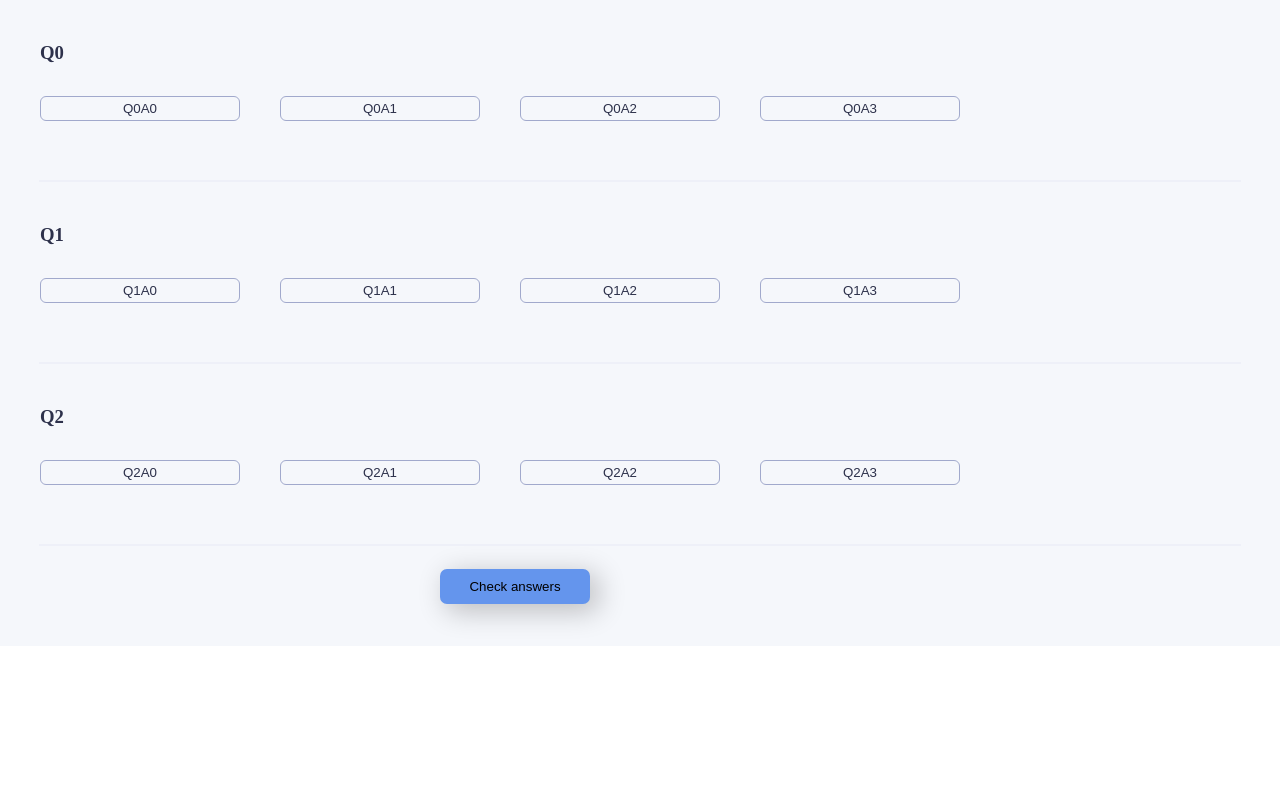
it: highlights the answers correctly and count how many of them are correctly selected by the user
Note: click on answers
Click the button "Q0A2": (620, 108) [520, 96, 720, 121]
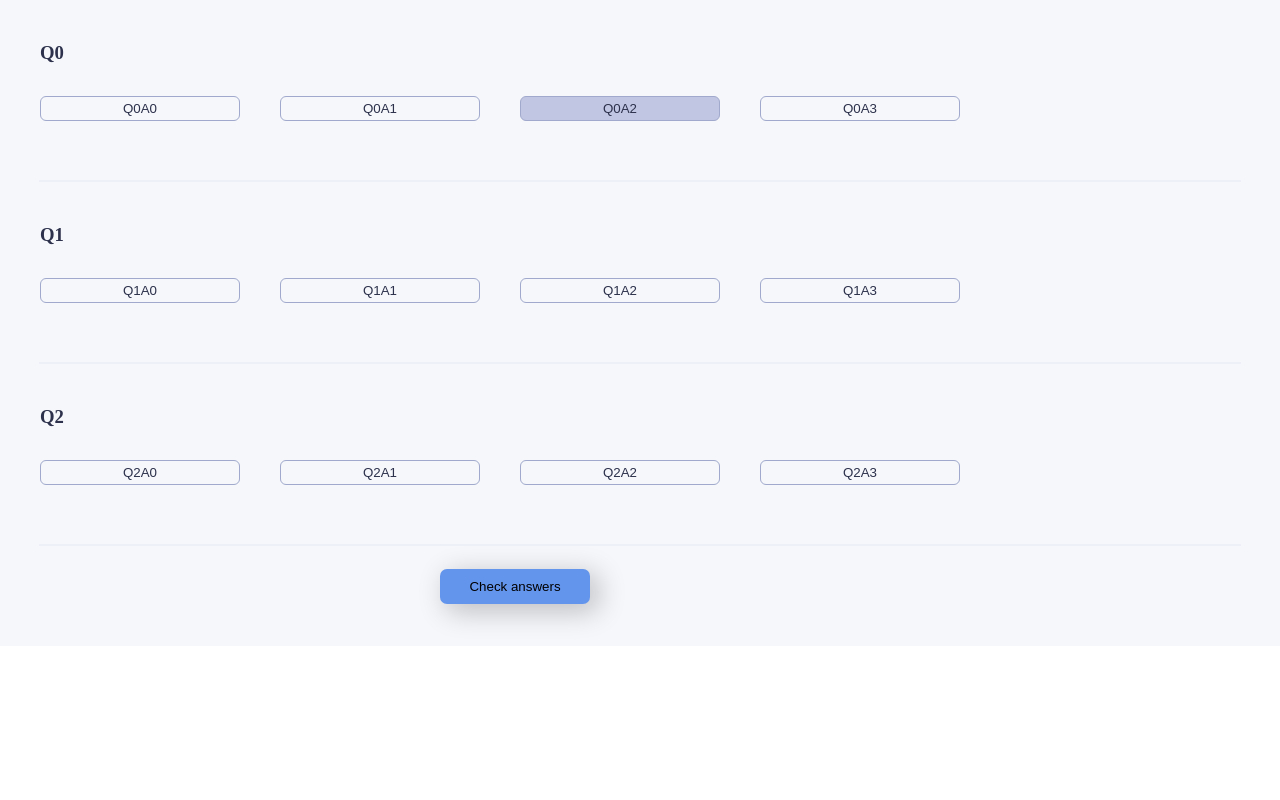
Click the button "Q1A3": (860, 290) [760, 278, 960, 303]
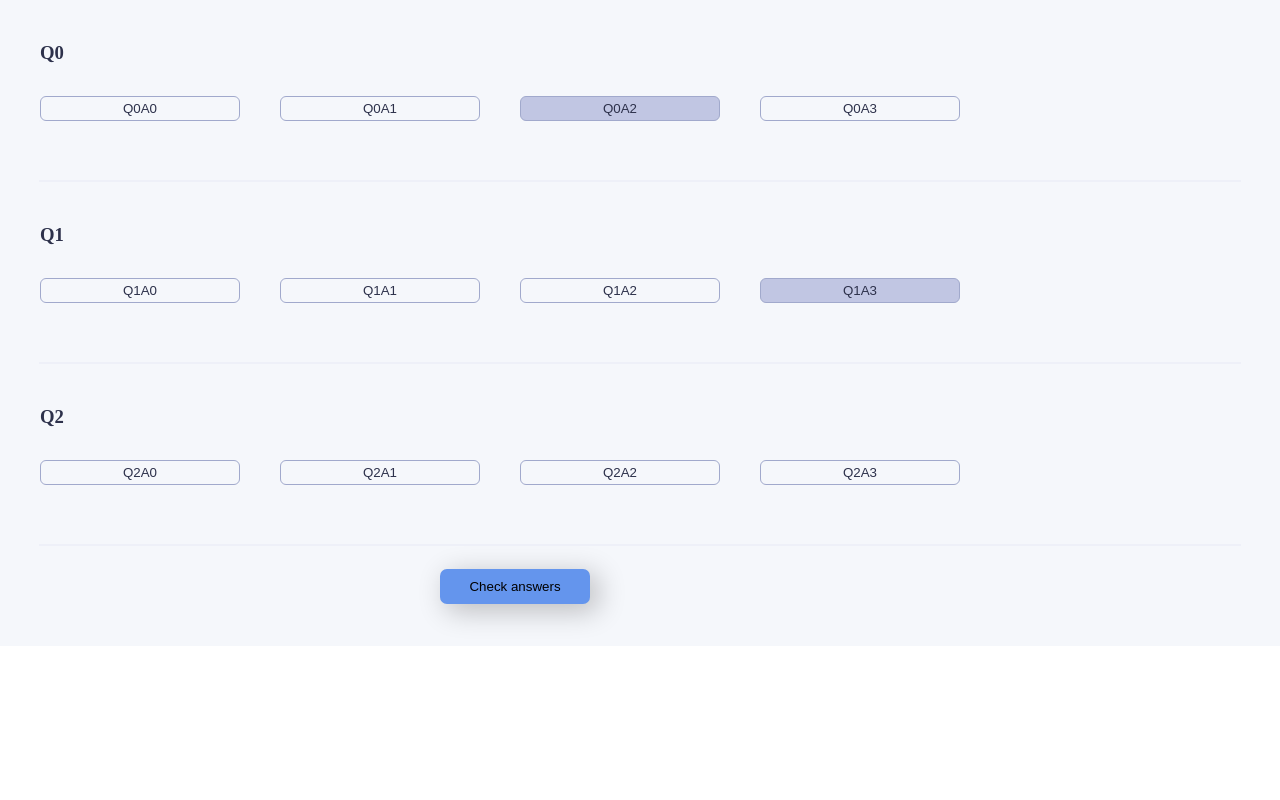
Click the button "Q2A2": (620, 472) [520, 460, 720, 485]
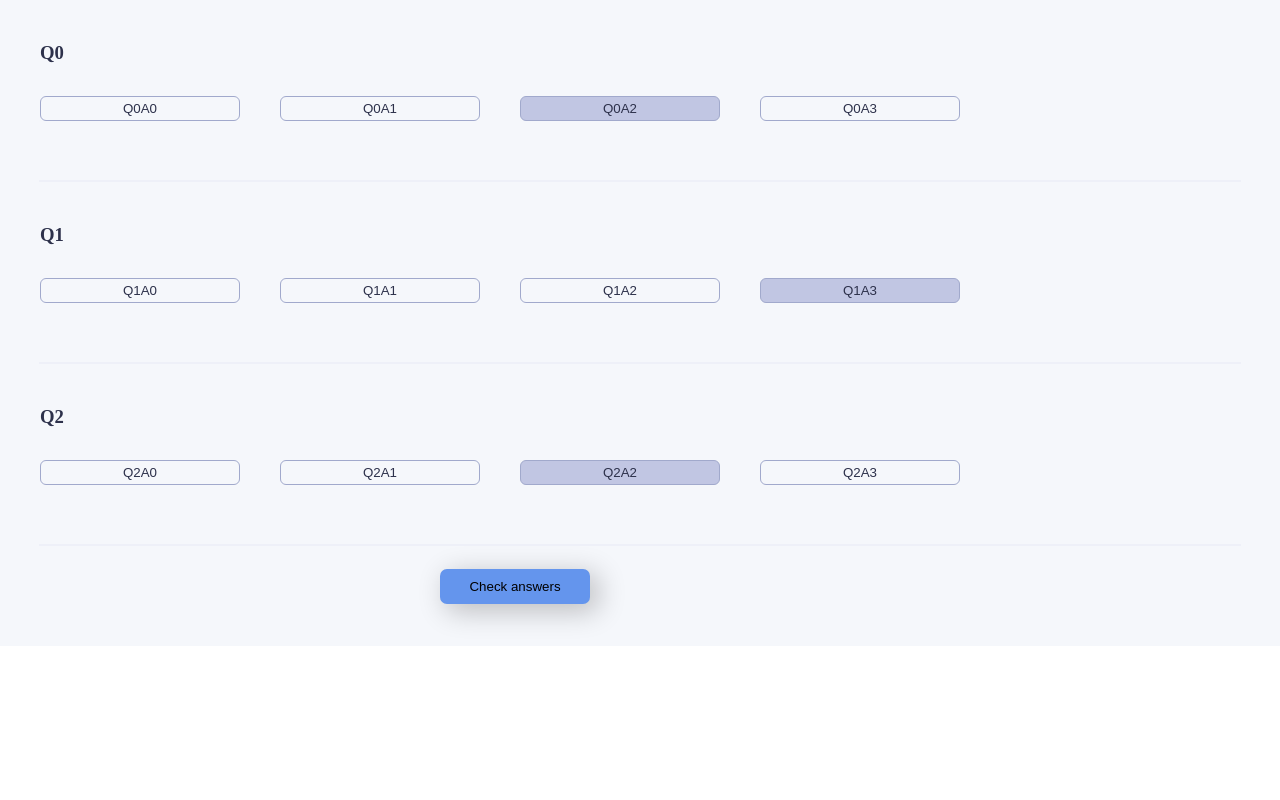
Note: click on check answers button
Click the button "Check answers": (515, 586) [440, 568, 590, 604]
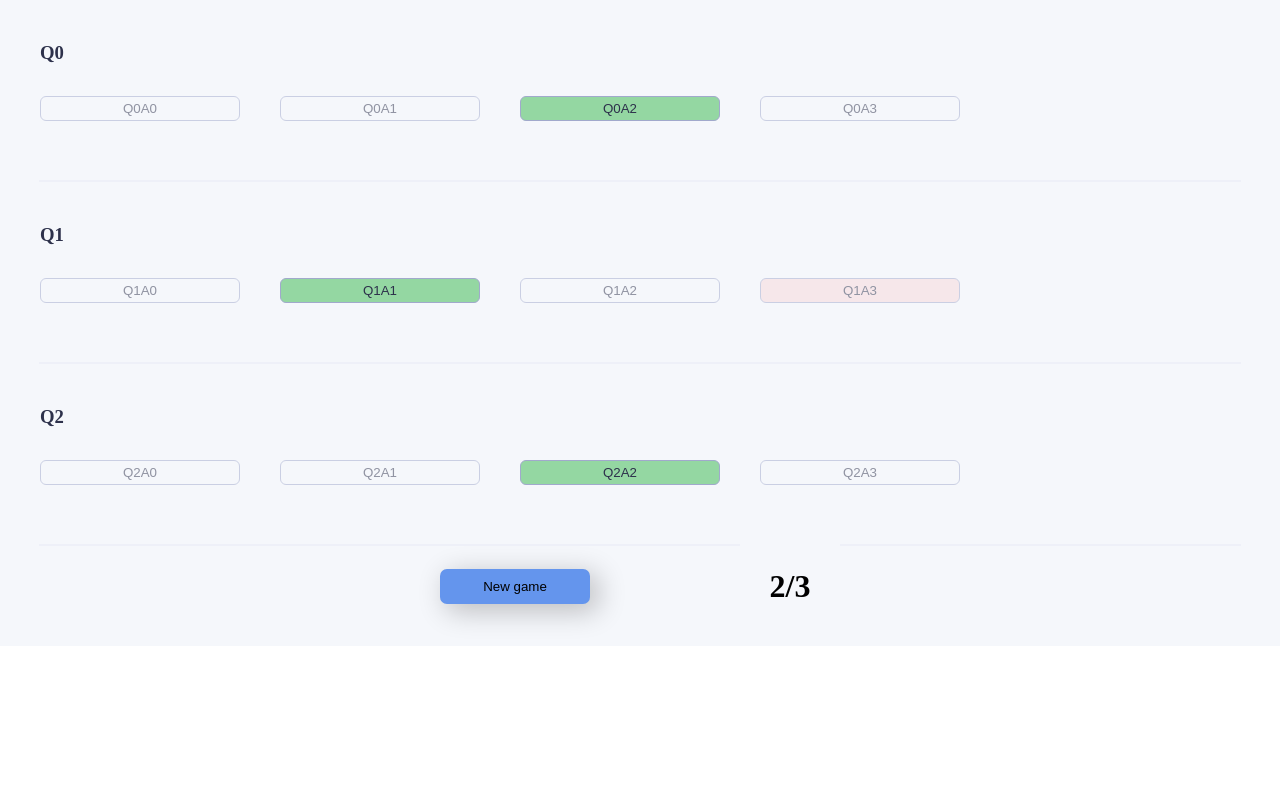
Check: the heading with test id "counter-h1" reads "2/3", box [770, 568, 810, 604]
